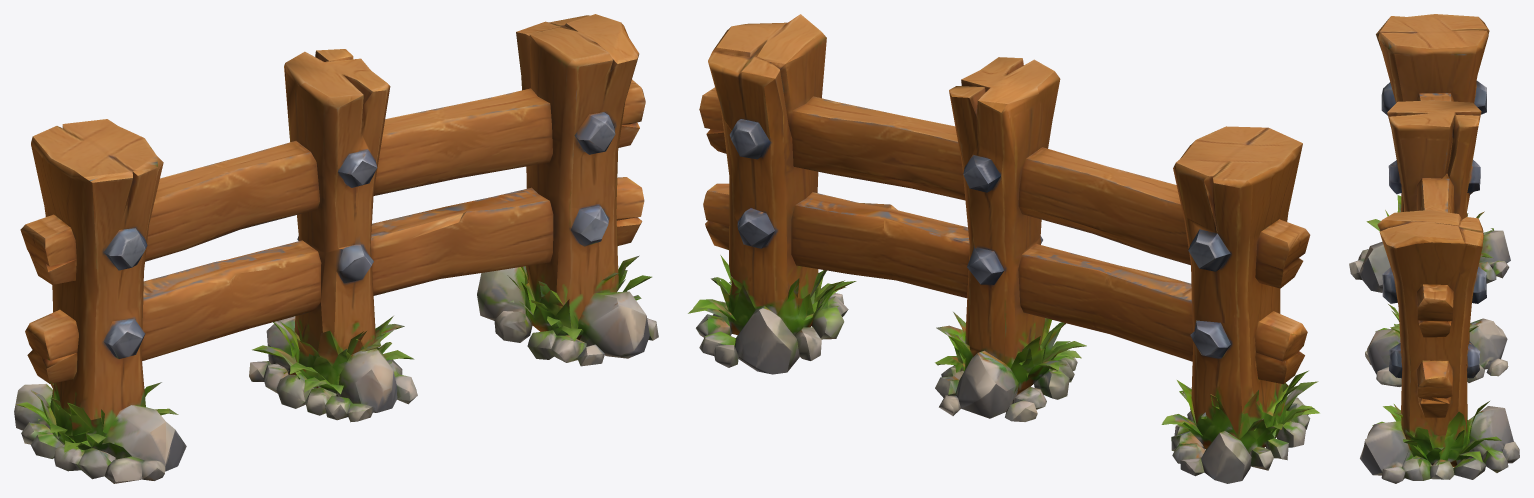
Rendered from fence.glb.
The picture shows the model from 3 angles, left to right: view 1: azimuth 30°, elevation 25°; view 2: azimuth 150°, elevation 25°; view 3: azimuth 270°, elevation 25°; orthographic projection. The views are drawn at different scales.
Parts seen in each view (by area): view 1: Body; view 2: Body; view 3: Body.
Boxes of the visible parts, x1=… form: Body: x1=14, y1=14, x2=658, y2=483; Body: x1=688, y1=14, x2=1319, y2=483; Body: x1=1349, y1=14, x2=1519, y2=483.
Bounding box in the file's own units: 2.8 × 1.42 × 0.8447.
Materials: 1 (1 with a texture image).
